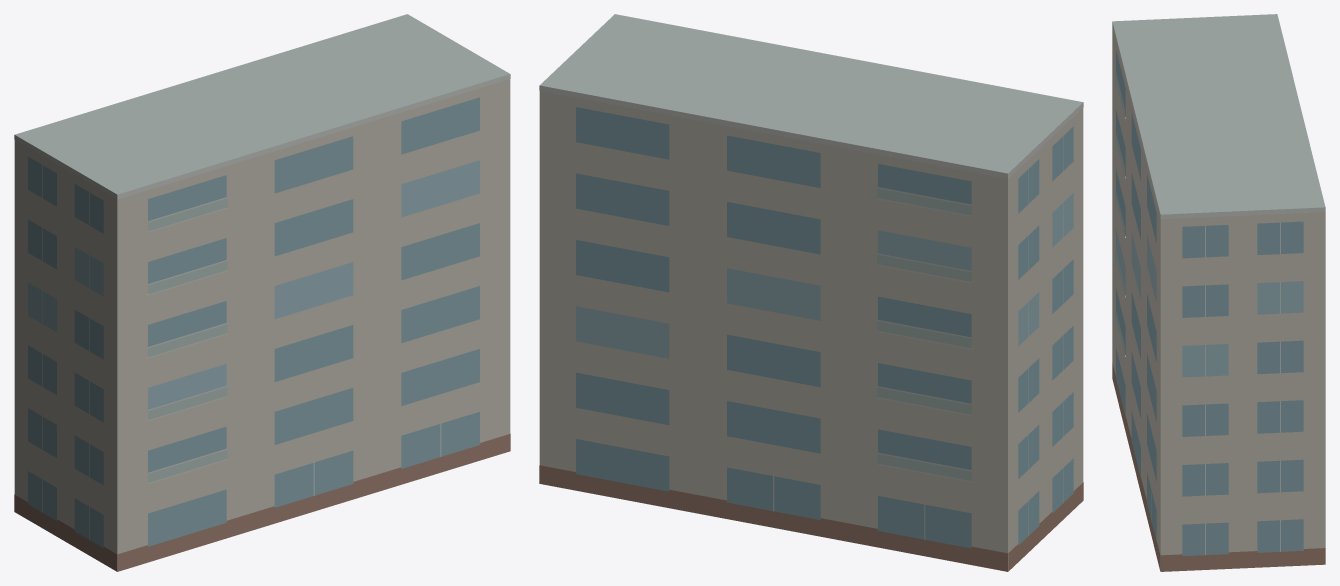
The model's file is survey-upis-32638277.glb.
3 renders of one model, left to right at view 1: azimuth 30°, elevation 25°; view 2: azimuth 150°, elevation 25°; view 3: azimuth 270°, elevation 25°, orthographic. The views are drawn at different scales.
Visible parts, largest first — view 1: survey-upis-32638277.tmp; view 2: survey-upis-32638277.tmp; view 3: survey-upis-32638277.tmp.
Boxes of the visible parts, x1=… form: survey-upis-32638277.tmp: x1=14, y1=14, x2=510, y2=571; survey-upis-32638277.tmp: x1=539, y1=14, x2=1083, y2=571; survey-upis-32638277.tmp: x1=1112, y1=14, x2=1325, y2=571.
Bounding box in the file's own units: 22.05 × 18.3 × 9.91.
